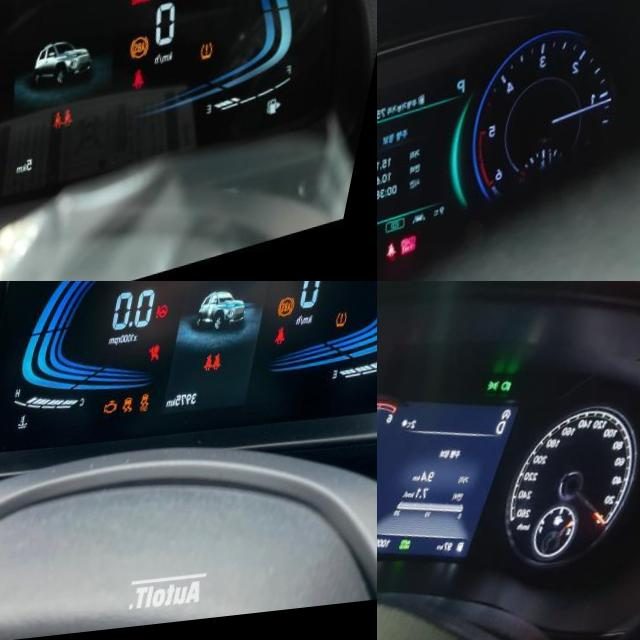Low beam: (509, 386, 523, 400)
SideLamp: (496, 386, 511, 399)
